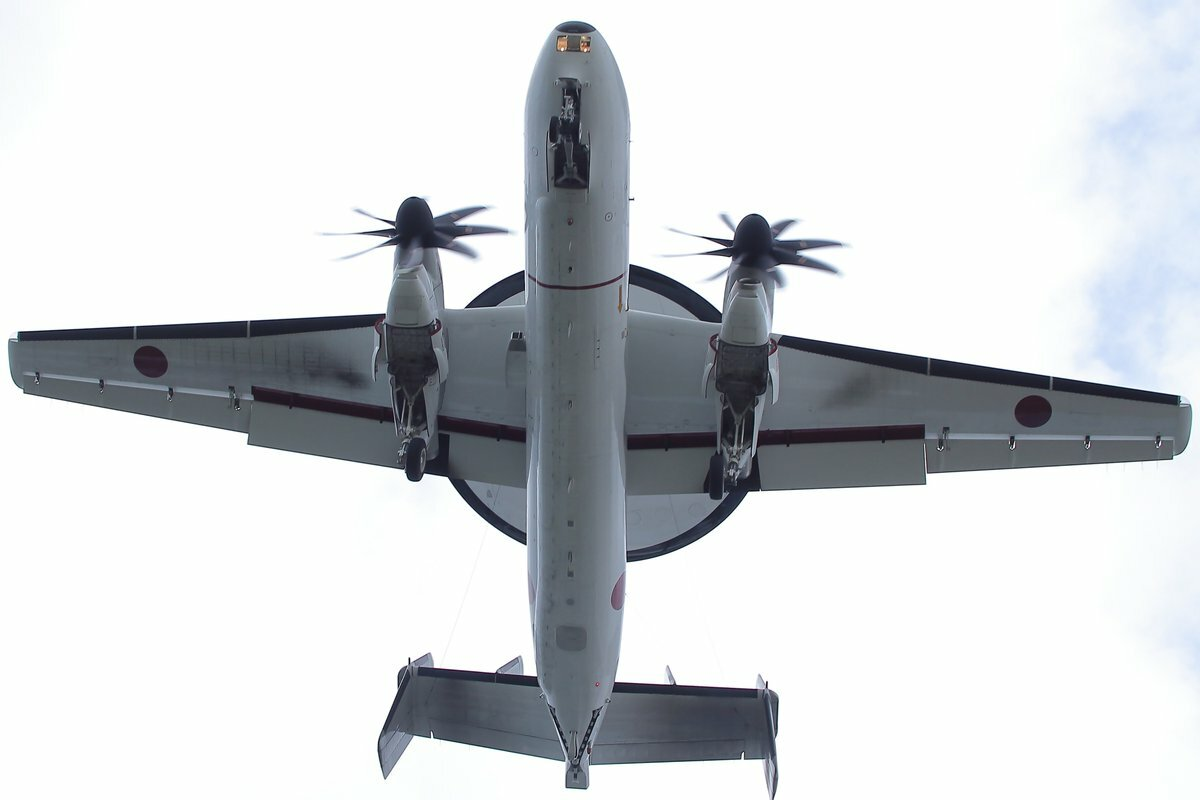E2: (8, 21, 1193, 800)
